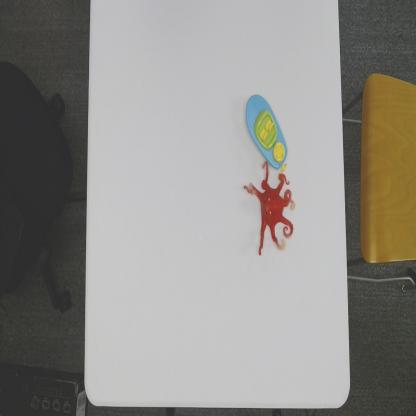Boat: (244, 92, 292, 174)
Octopus: (242, 160, 296, 260)
